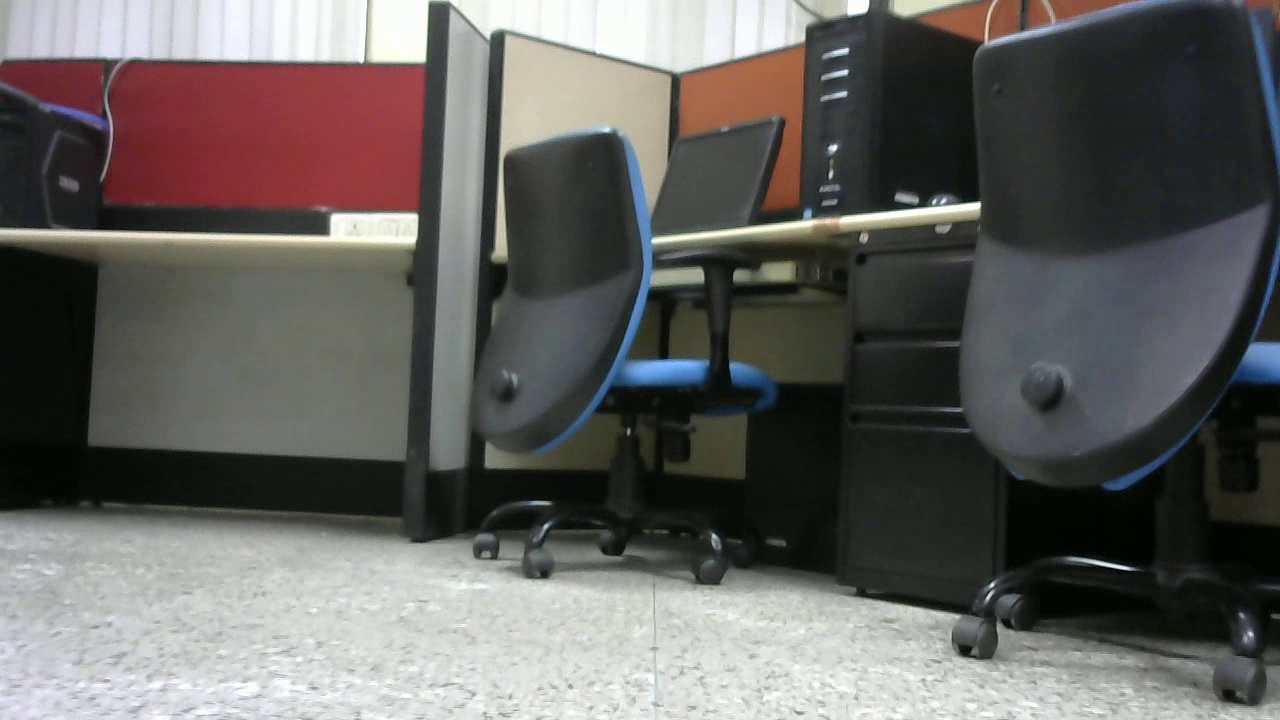chair: (948, 5, 1280, 707), (455, 127, 797, 592)
